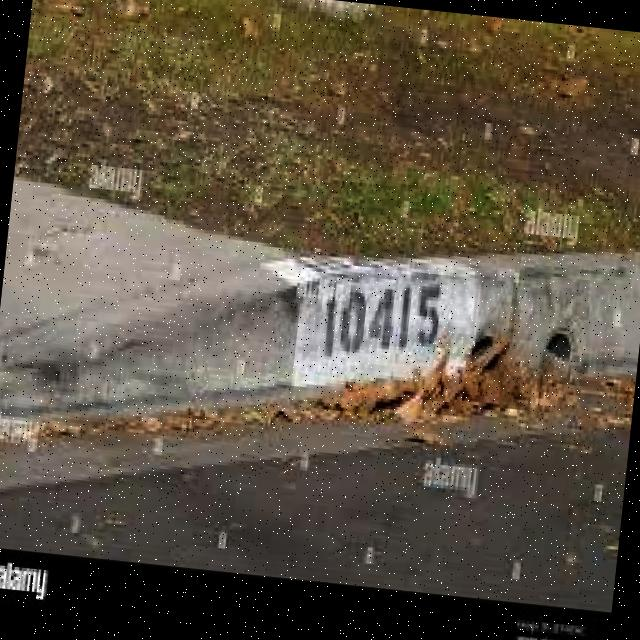curb: (276, 215, 640, 447), (1, 233, 277, 454)
